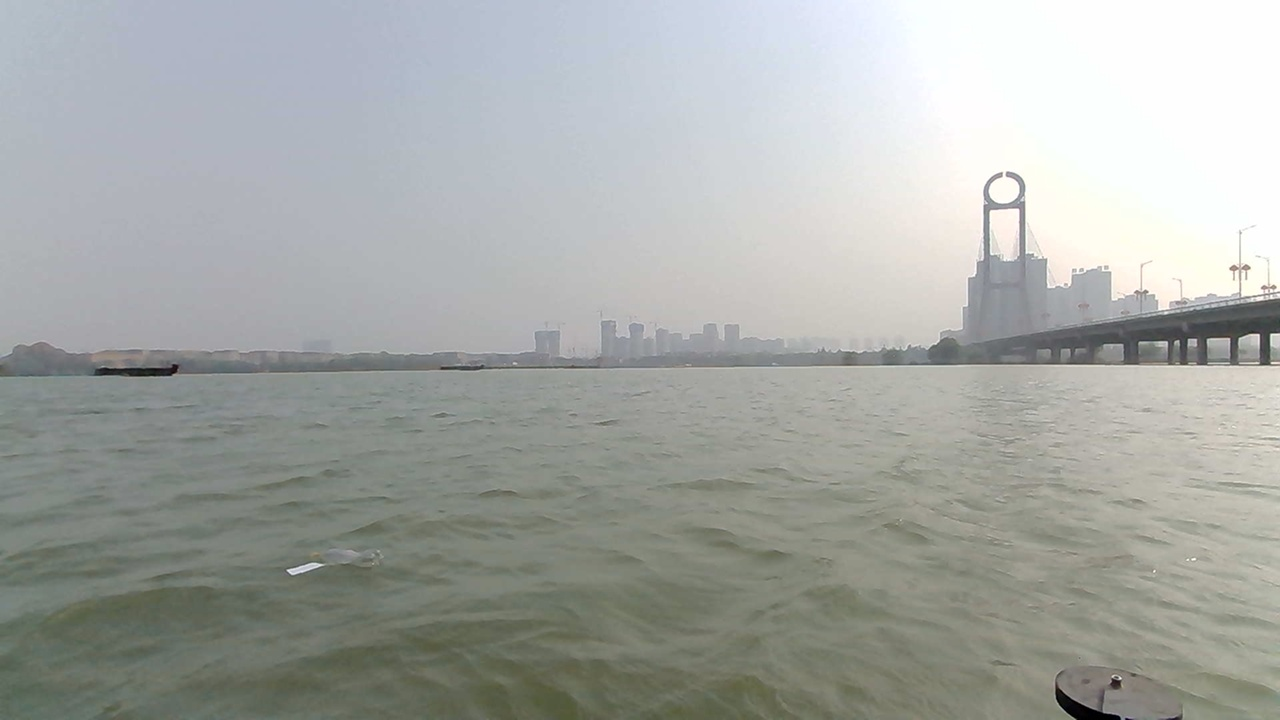bottle: (229, 528, 424, 606), (259, 602, 409, 666)
